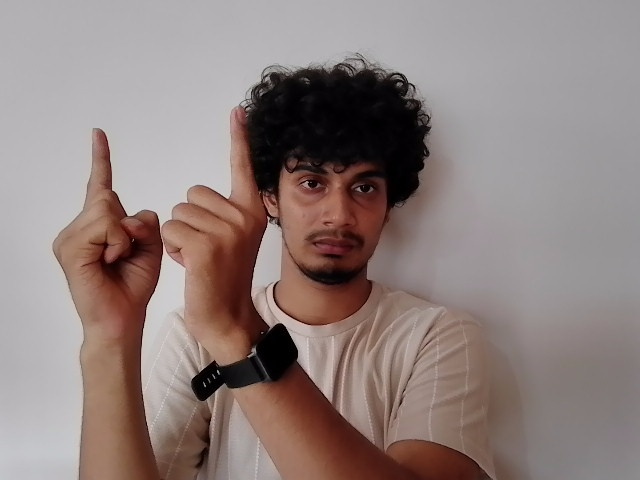play: (51, 110, 267, 297)
